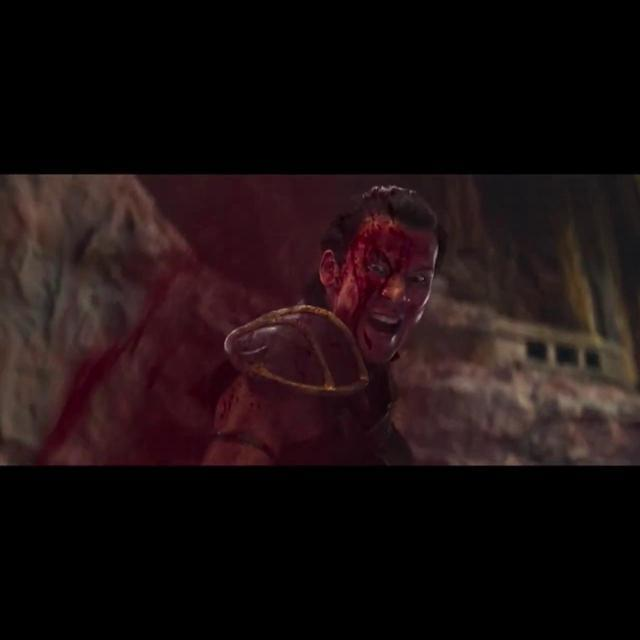blood: (35, 176, 442, 466)
